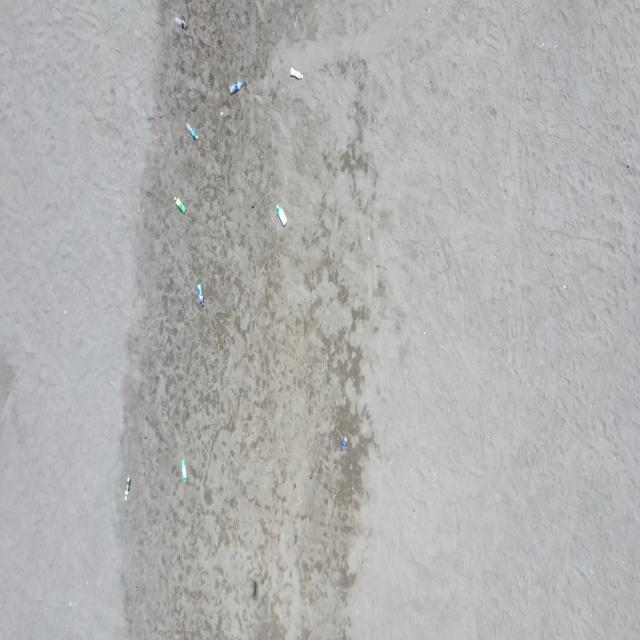plastic-bottle: (276, 203, 288, 227), (228, 79, 245, 95), (185, 123, 198, 143), (174, 196, 187, 215), (174, 15, 188, 32), (197, 282, 206, 308), (289, 66, 303, 82), (124, 477, 132, 501), (180, 459, 187, 485), (341, 436, 349, 454)
